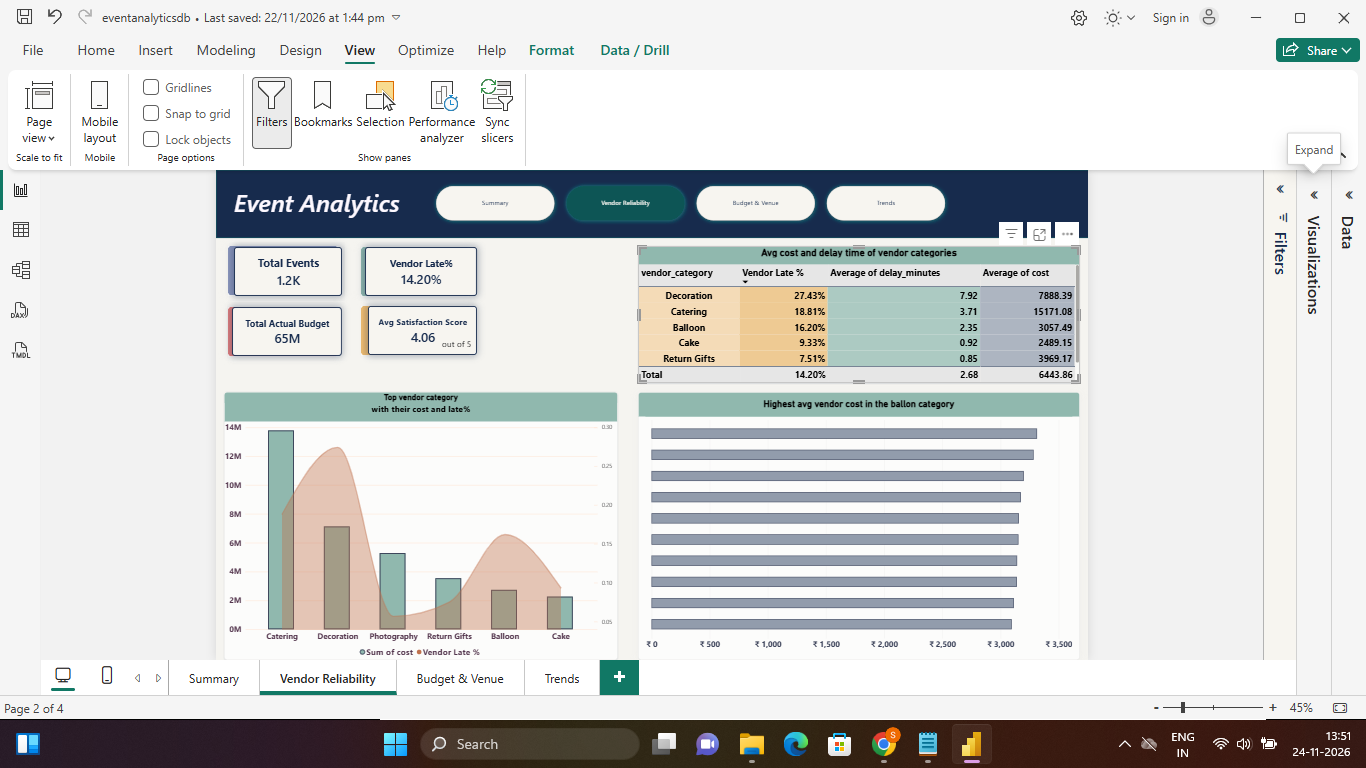

The page's visual inventory and layout, read from the dashboard file:
{"tool":"powerbi","page":{"name":"Vendor Reliability","canvas":[1920,1080],"ordinal":1},"visuals":[{"type":"shape","box":[319.6,299.8,242.6,108.5],"z":0},{"type":"shape","box":[26.9,302.5,242.6,108.5],"z":1000},{"type":"shape","box":[319.1,170.2,238.3,108.5],"z":2000},{"type":"shape","box":[26.9,168,242.6,108.5],"z":3000},{"type":"lineClusteredColumnComboChart","title":"Top vendor category","fields":{"Category":["vendor_orders.vendor_category"],"Y":["Sum(vendor_orders.cost)"],"Y2":["event_Measures.Vendor Late %"]},"box":[17.6,489.3,868.4,590.7],"z":5000},{"type":"shape","box":[0,0,3540,150],"z":7000},{"type":"pageNavigator","box":[476.1,26.4,1142.7,94.1],"z":8000},{"type":"textbox","box":[39.7,35.3,392,76],"z":9000},{"type":"cardVisual","fields":{"Data":["event_Measures.Total Events"]},"box":[39.7,169.7,238,108],"z":10000},{"type":"cardVisual","fields":{"Data":["event_Measures.Vendor Late %"]},"box":[328.4,169.7,246.9,108],"z":11000},{"type":"cardVisual","fields":{"Data":["event_Measures.Total Budget Actual"]},"box":[35.9,302.5,242,108],"z":12000},{"type":"cardVisual","fields":{"Data":["event_Measures.Avg Satisfaction Score"]},"box":[335,299.8,240.2,108],"z":13000},{"type":"textbox","box":[498.1,370.3,78,38],"z":14000},{"type":"tableEx","title":"Avg cost and delay time of vendor categories","fields":{"Values":["vendor_orders.vendor_category","event_Measures.Vendor Late %","Avg(vendor_orders.delay_minutes)","Avg(vendor_orders.cost)"]},"box":[930.1,167.5,974.2,302],"z":15000},{"type":"clusteredBarChart","title":"Highest avg vendor cost in the ballon category","fields":{"Category":["vendor_orders.vendor_name"],"Y":["event_Measures.Average Vendor Cost"]},"box":[930.1,489.3,974.2,590.7],"z":16000}]}

Visuals, with their boxes on the page's 1920x1080 design canvas (x1, y1, x2, y2). These are canvas units, not pixel positions in the 1366x768 screenshot, which may show the page scaled, cropped or inside an application window:
shape: <box>320,300,562,408</box>
shape: <box>27,302,270,411</box>
shape: <box>319,170,557,279</box>
shape: <box>27,168,270,276</box>
"Top vendor category" lineClusteredColumnComboChart: <box>18,489,886,1080</box>
shape: <box>0,0,3540,150</box>
pageNavigator: <box>476,26,1619,120</box>
textbox: <box>40,35,432,111</box>
cardVisual - event_Measures.Total Events: <box>40,170,278,278</box>
cardVisual - event_Measures.Vendor Late %: <box>328,170,575,278</box>
cardVisual - event_Measures.Total Budget Actual: <box>36,302,278,410</box>
cardVisual - event_Measures.Avg Satisfaction Score: <box>335,300,575,408</box>
textbox: <box>498,370,576,408</box>
"Avg cost and delay time of vendor categories" tableEx: <box>930,168,1904,470</box>
"Highest avg vendor cost in the ballon category" clusteredBarChart: <box>930,489,1904,1080</box>
